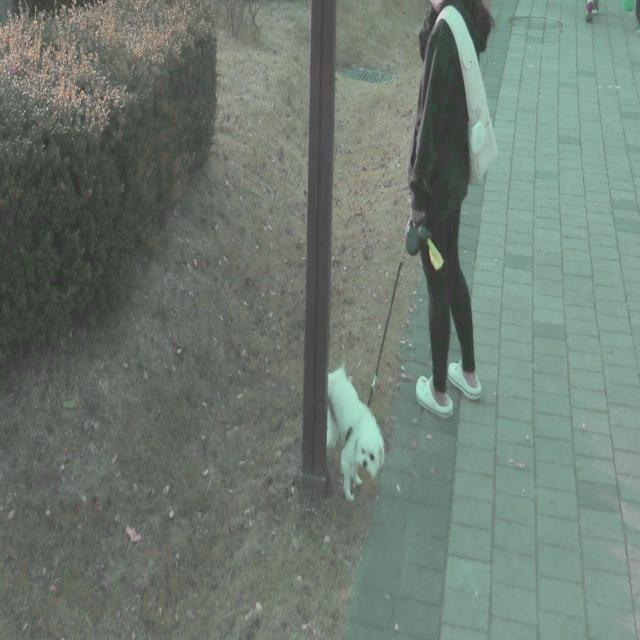Leashed_Dog: (327, 205, 436, 502)
